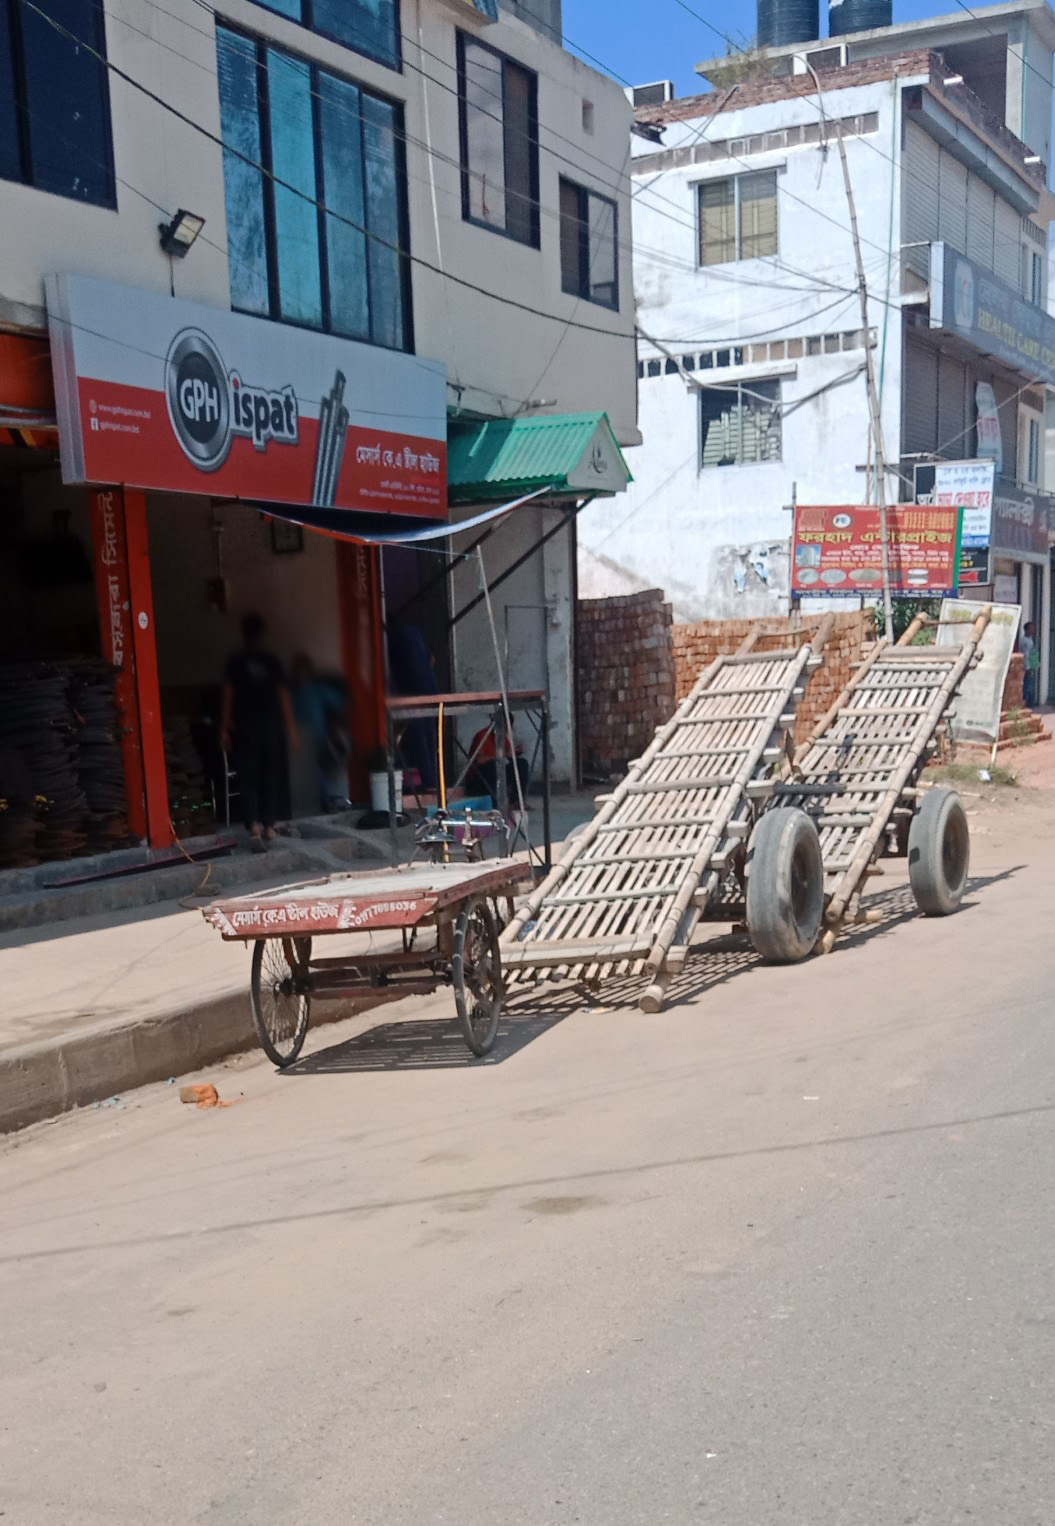van: (203, 835, 545, 1084)
wheelbarrow: (479, 630, 831, 989), (694, 595, 1007, 966)
